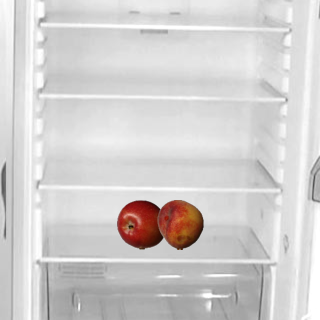Apple Braeburn: (116, 199, 166, 249)
Peach: (155, 199, 205, 249)
